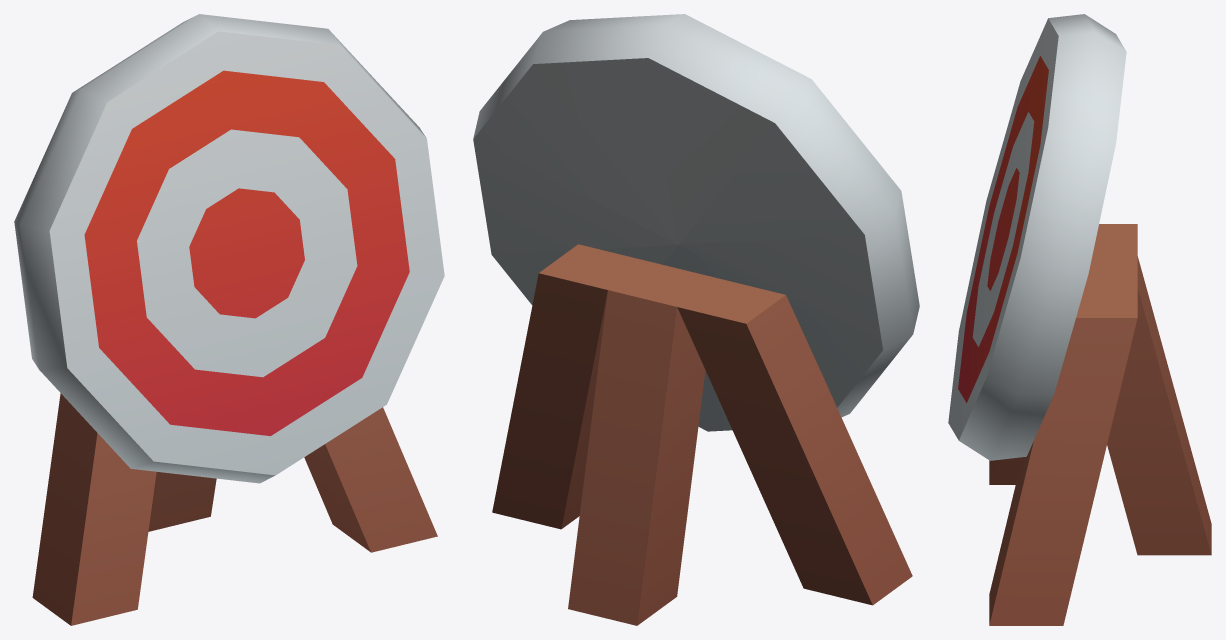
File: target.glb
3 views of the same model, side by side, from view 1: azimuth 30°, elevation 25°; view 2: azimuth 150°, elevation 25°; view 3: azimuth 270°, elevation 25° (orthographic). The views are drawn at different scales.
Parts seen in each view (by area): view 1: target; view 2: target; view 3: target.
Boxes of the visible parts, <box> form: target: <box>14,14,444,625</box>; target: <box>473,14,919,625</box>; target: <box>948,14,1211,625</box>.
Bounding box in the file's own units: 0.2393 × 0.3018 × 0.1421.
Materials: 1 (1 with a texture image).
